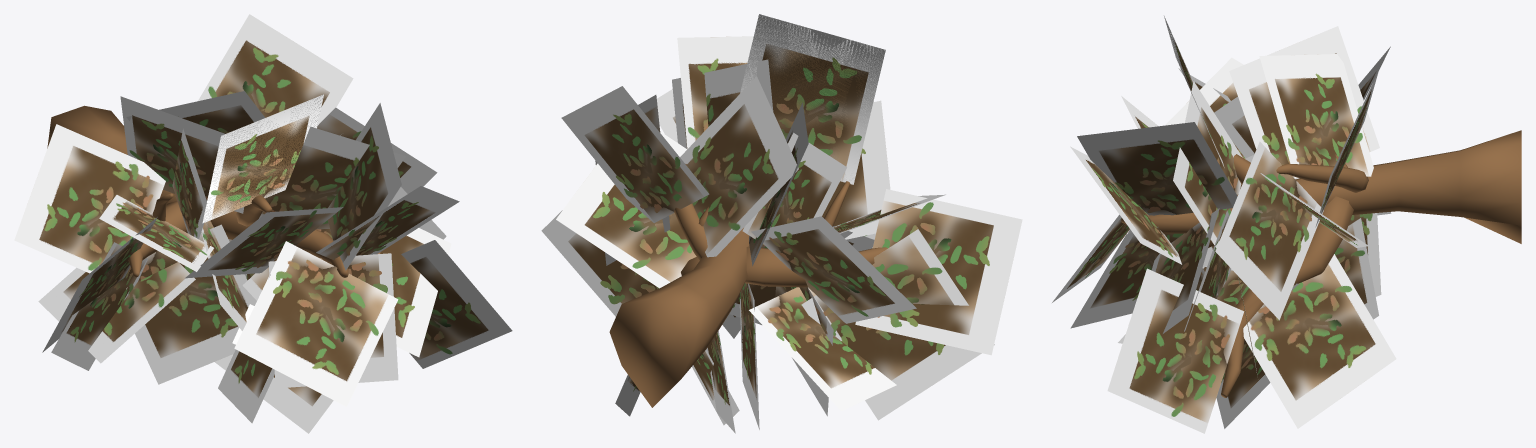
Rendered from drzewo.fbx.
3 renders of one model, left to right at view 1: azimuth 30°, elevation 25°; view 2: azimuth 150°, elevation 25°; view 3: azimuth 270°, elevation 25°, orthographic. The views are drawn at different scales.
Parts seen in each view (by area): view 1: Plane.029; view 2: Plane.029; view 3: Plane.029.
Boxes of the visible parts, left/top/right/bottom form: Plane.029: left=14, top=14, right=512, bottom=433; Plane.029: left=541, top=14, right=1022, bottom=433; Plane.029: left=1052, top=16, right=1521, bottom=433.
Size of the model in its own units: 1533 by 1567 by 1326.
